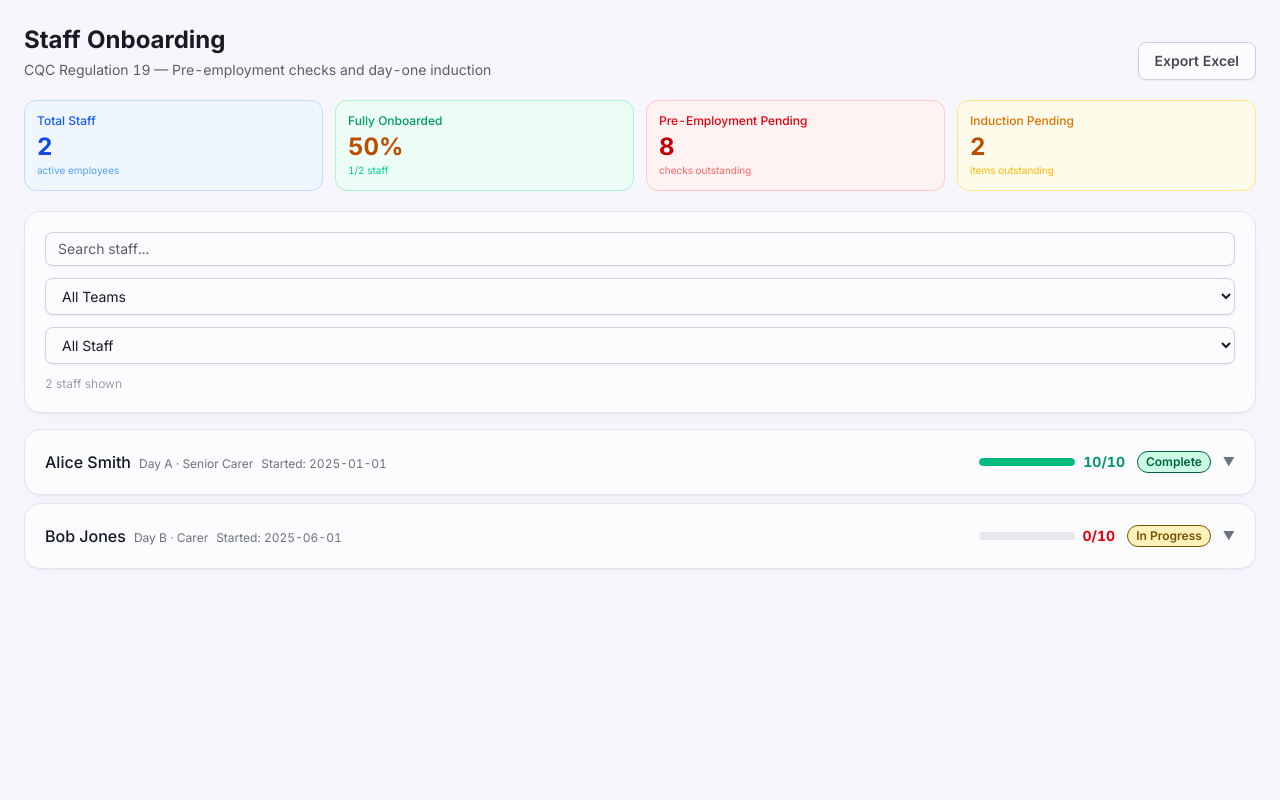
Test: OnboardingTracker › shows the section document uploader inside the onboarding modal
Expected: the text "Alice Smith" is shown, x1=45 y1=452 x2=131 y2=472
Step 1. Click the button that starts with "Alice Smith" → (88, 462), box x1=45 y1=450 x2=1235 y2=474
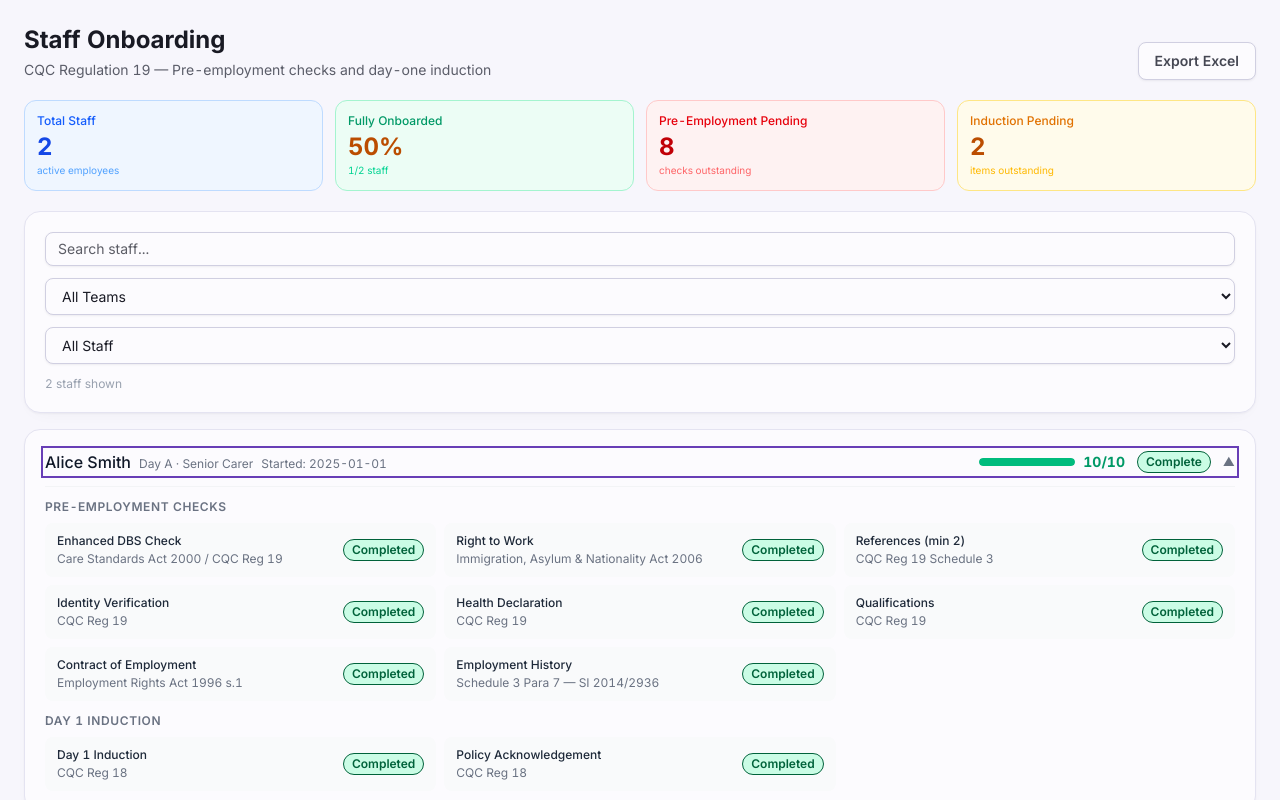
Result: the text "Enhanced DBS Check" is shown
Step 2. Click the text "Enhanced DBS Check" → (119, 540), box x1=57 y1=533 x2=182 y2=548
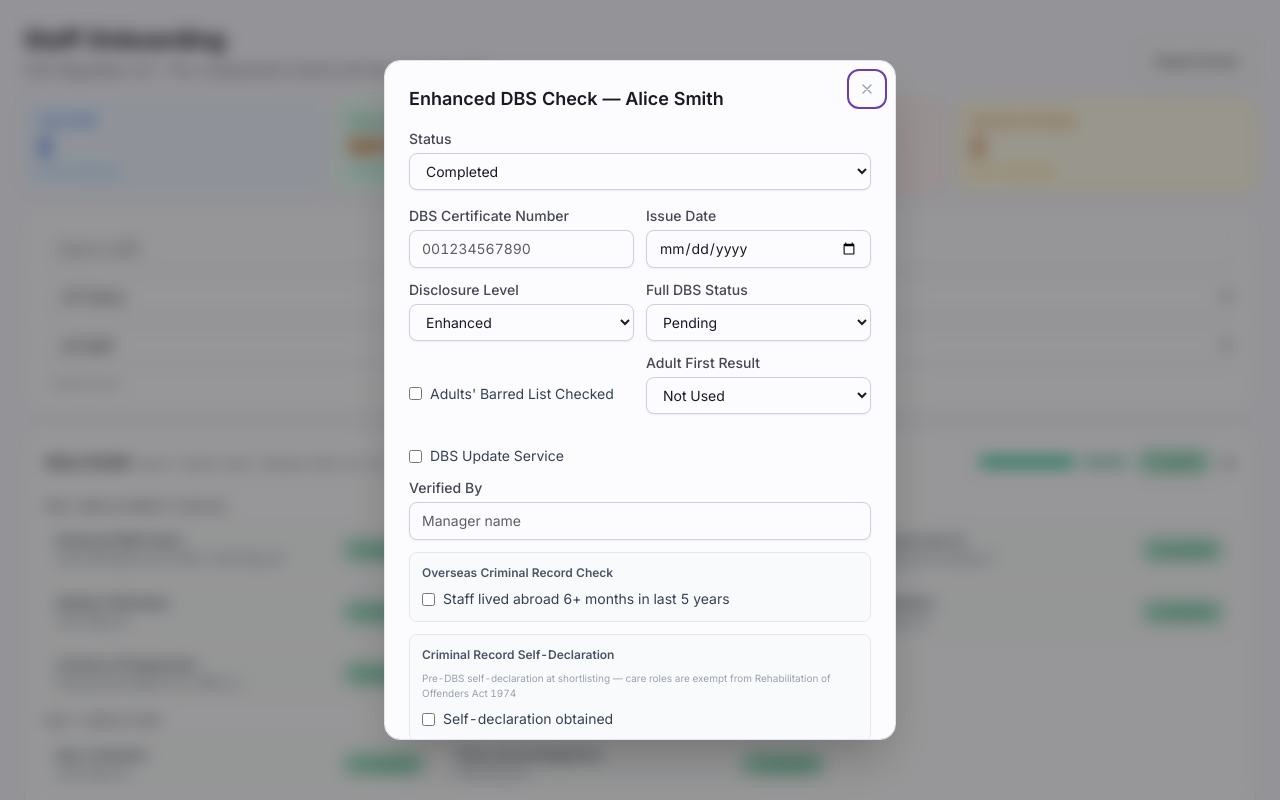
Result: the heading "Enhanced DBS Check — Alice Smith" is shown at x1=409 y1=88 x2=724 y2=109
